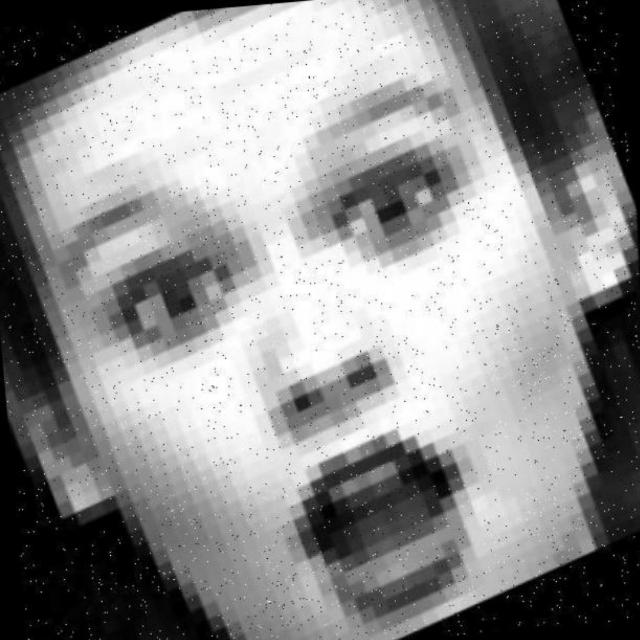Surprised: (27, 97, 640, 640)
